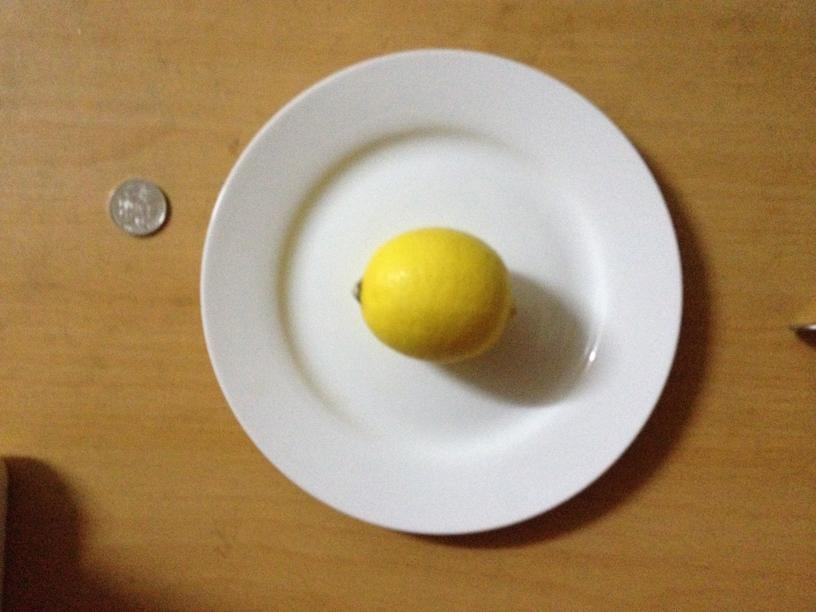coin: (105, 176, 168, 237)
lemon: (356, 227, 513, 364)
